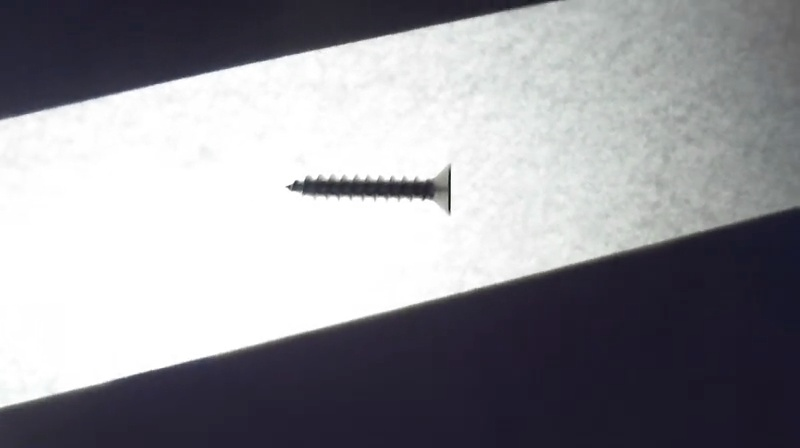S001: (284, 161, 458, 218)
